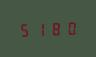eight: (48, 19, 62, 36)
five: (18, 21, 32, 37)
one: (33, 20, 47, 37)
zero: (63, 19, 77, 35)
